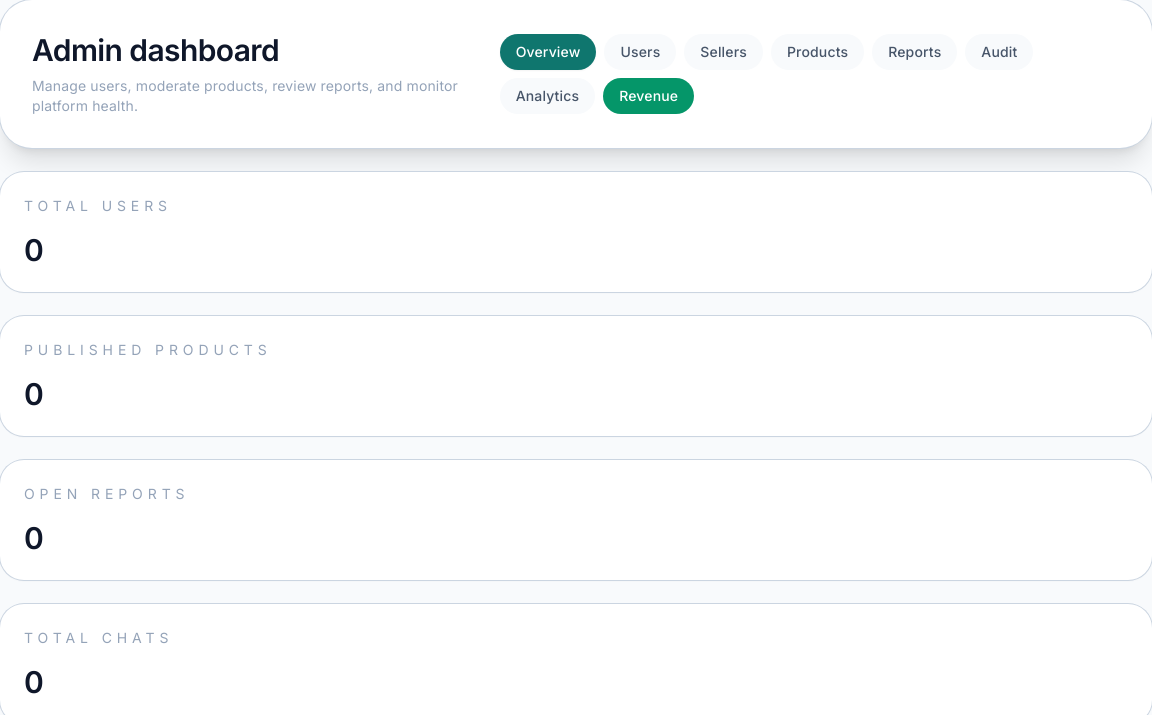
it: AdminDashboard delete seller flow › shows the delete action and opens the confirmation modal for the users-tab seller row
The width and height of the screenshot is (1152, 715).
Click the button "Users".
click(640, 52)  # box [604,34,676,70]
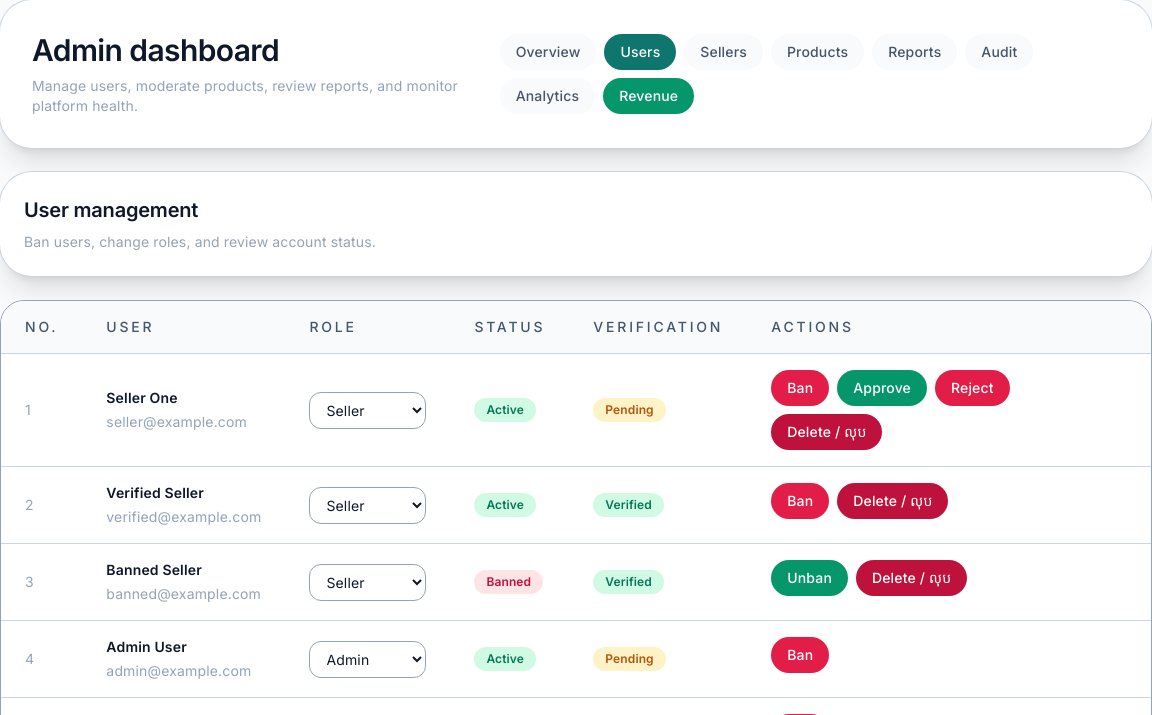
Expected: the text "Seller One" is shown, [106,389,178,406]
Expected: the number of buttons "Delete / លុប" is 3
Expected: the button "Approve" is shown, [837,370,927,406]
Click the button "Delete / លុប" in the row of "seller@example.com".
click(827, 432)  # box [771,414,882,450]
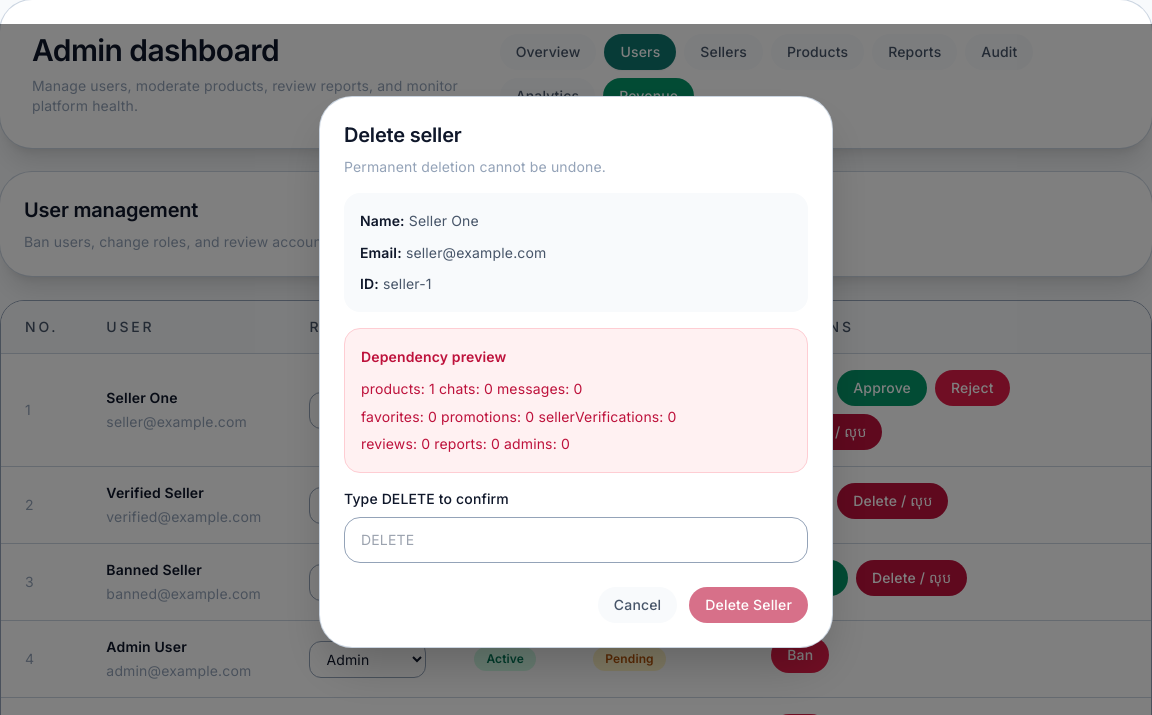
Expected: the text "Permanent deletion cannot be undone." is shown, [344,158,606,175]
